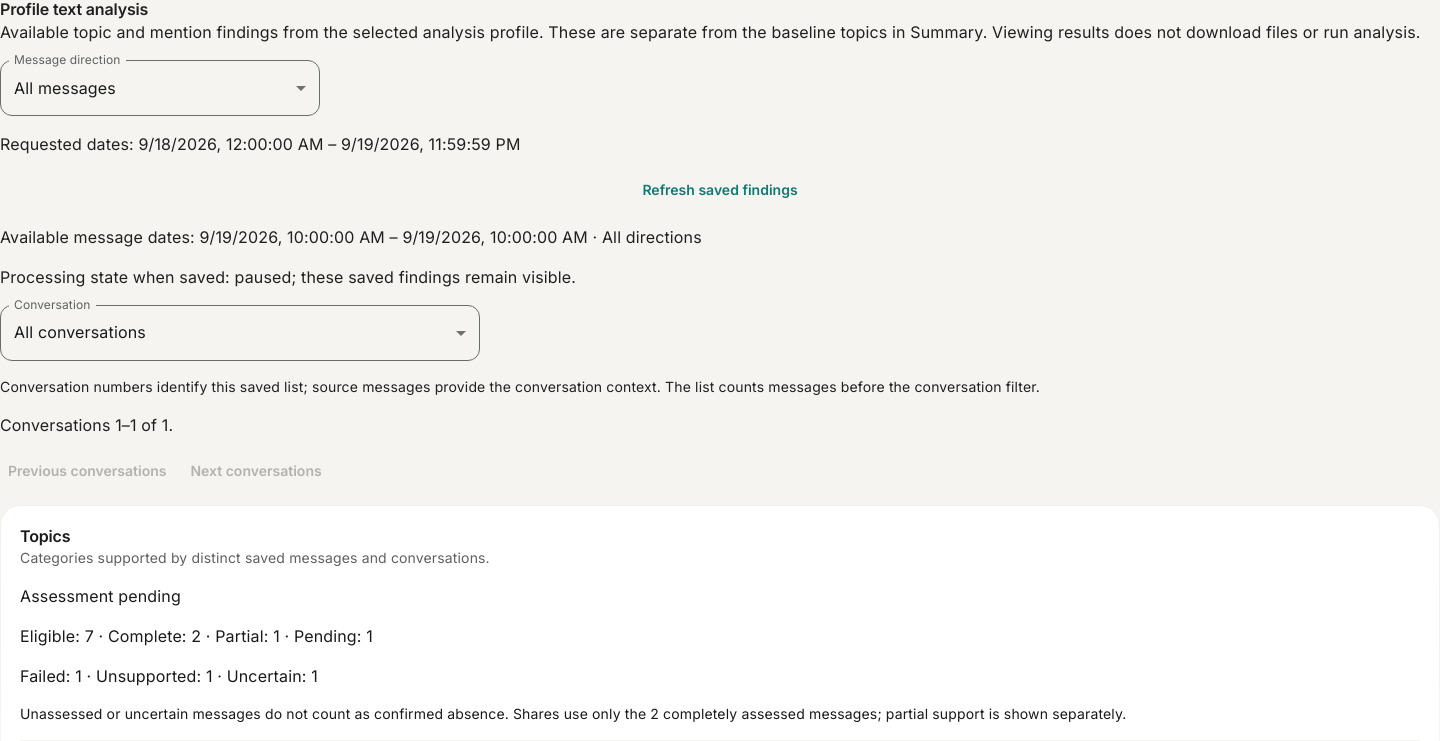
TaskFindings › selects and clears category sources accessibly while returning to all conversations
Press the mouse on the dropdown labelled "conversation" at (80, 332), box [14,322,146,342]
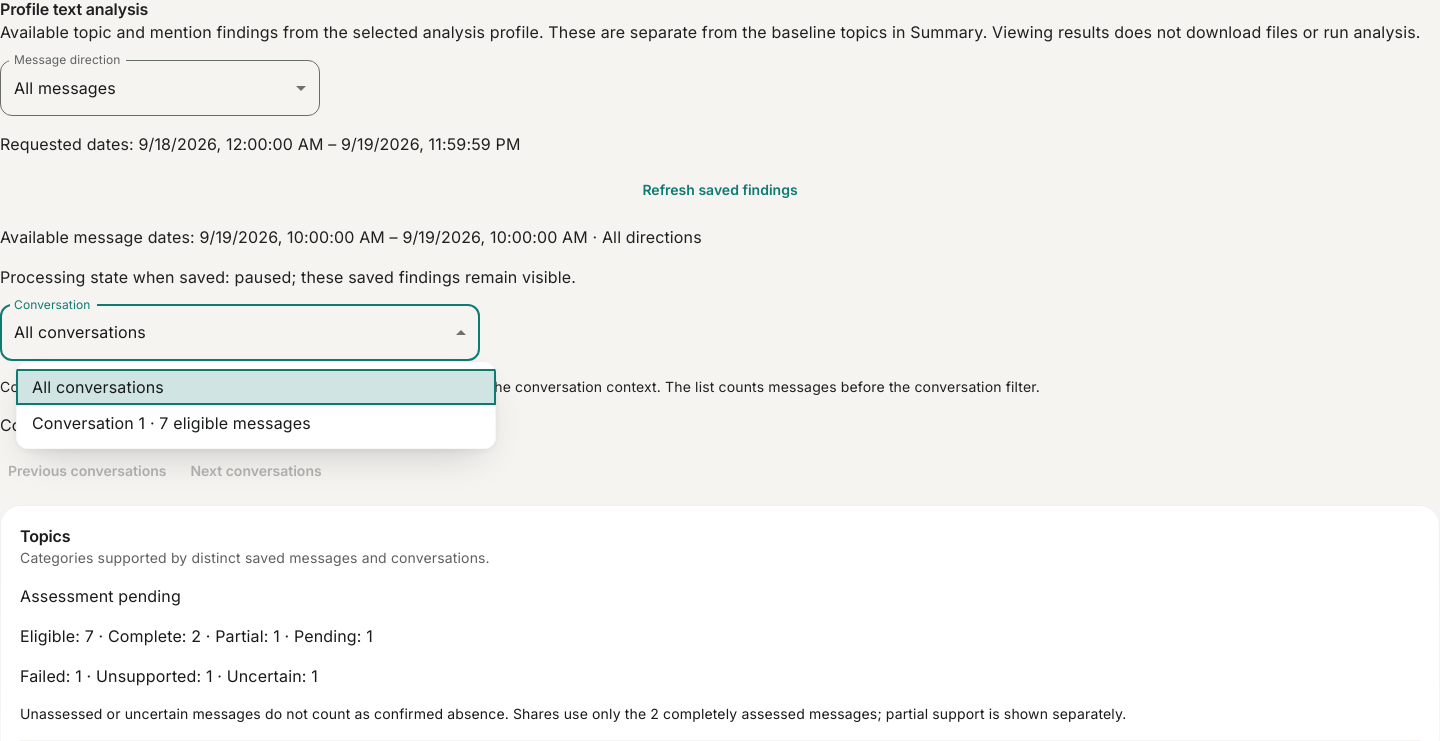
Click the option "Conversation 1 · 7 eligible messages".
click(171, 423)  # box [32,413,311,433]
(page scrolled)
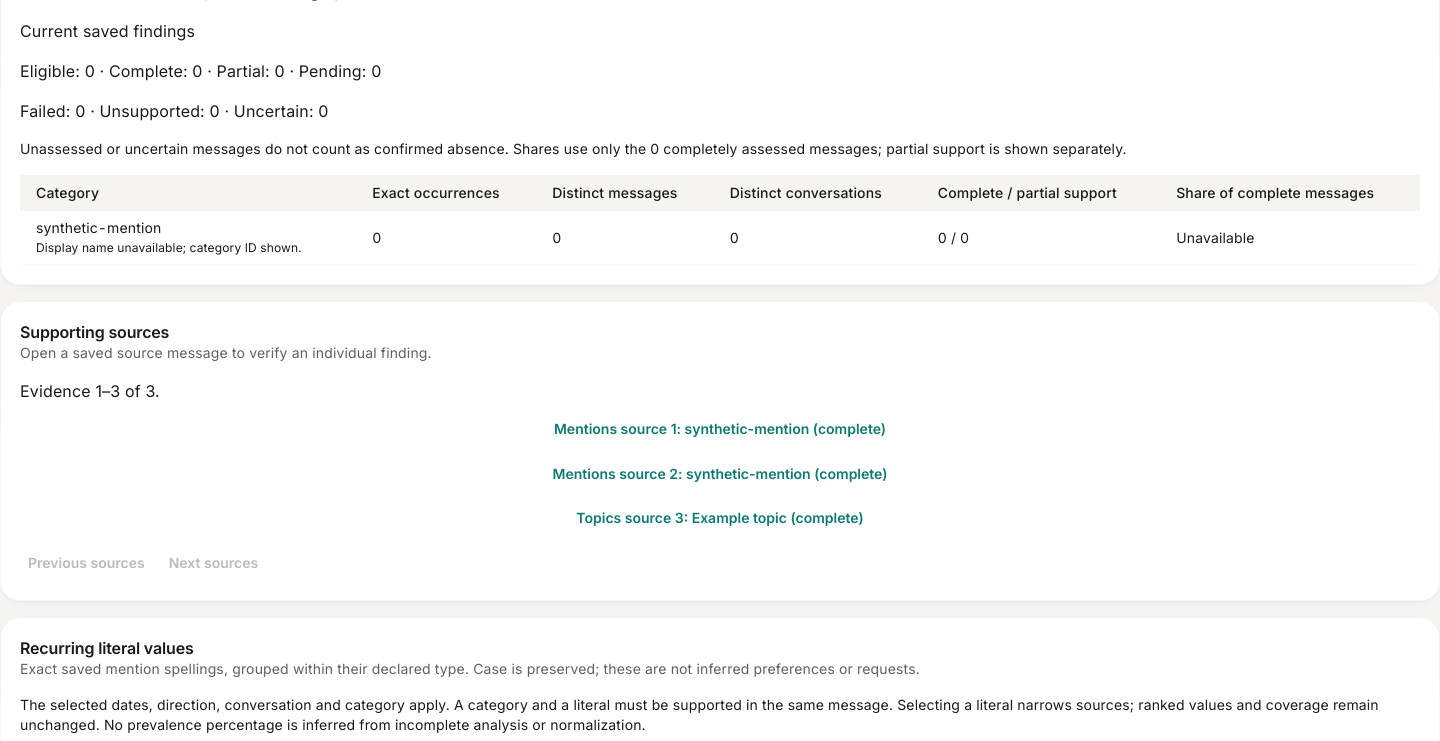
Click the button "Mentions source 1: synthetic-mention (complete)".
click(720, 430)  # box [20,411,1420,448]
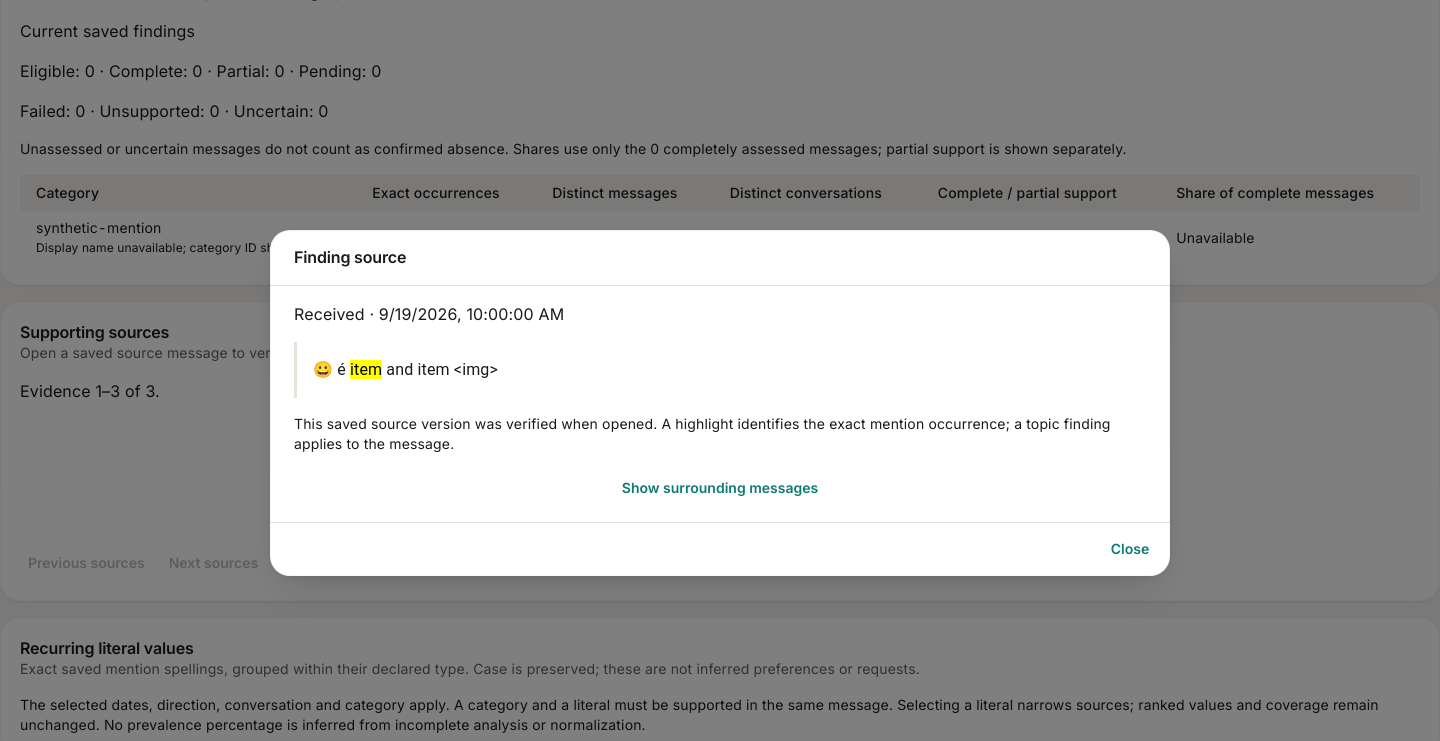
Now the dialog "Finding source" is shown, box [270,230,1170,576]
Click the button "Close".
click(1130, 549)  # box [1098,531,1162,568]
(page scrolled)
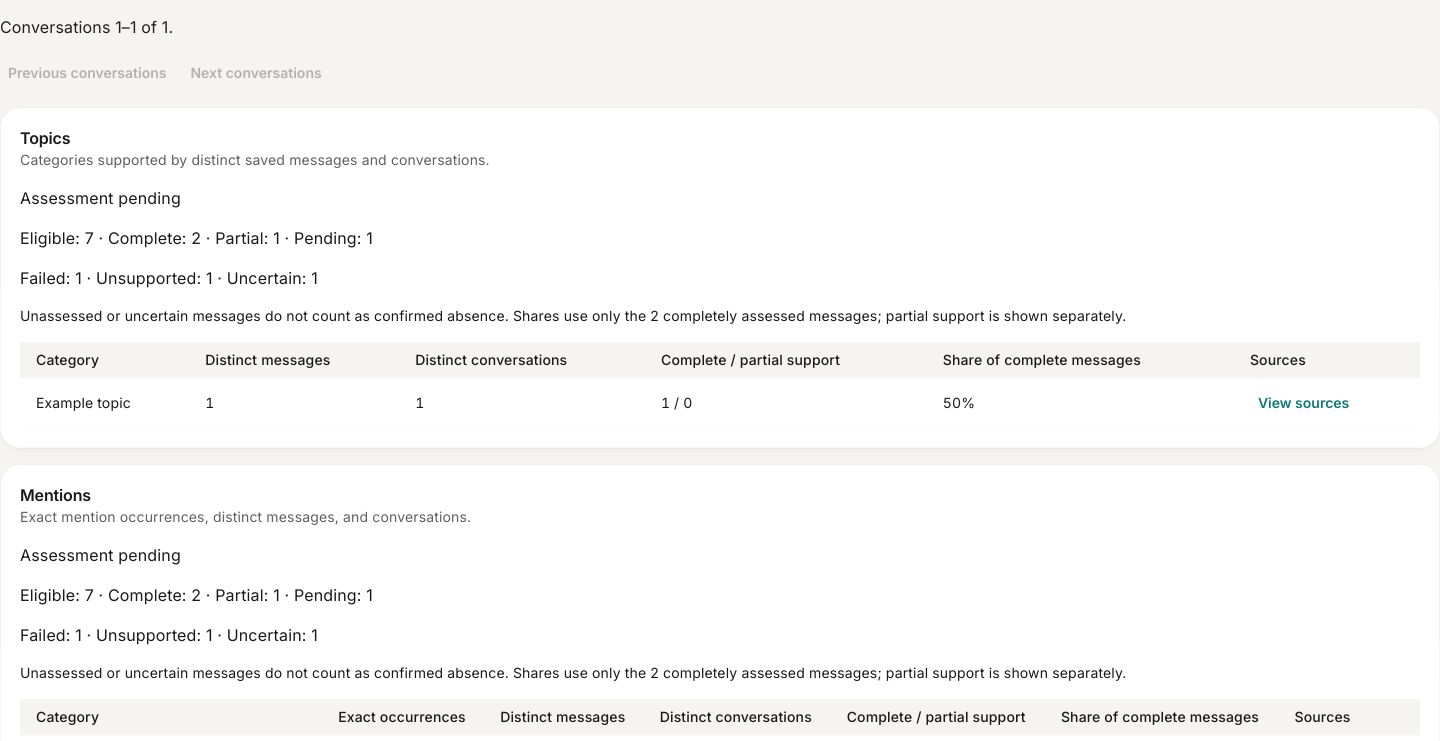
Now the dialog is gone
Click the button with aria-label "View sources for Topics: Example topic".
click(1304, 403)  # box [1250,385,1357,421]
(page scrolled)
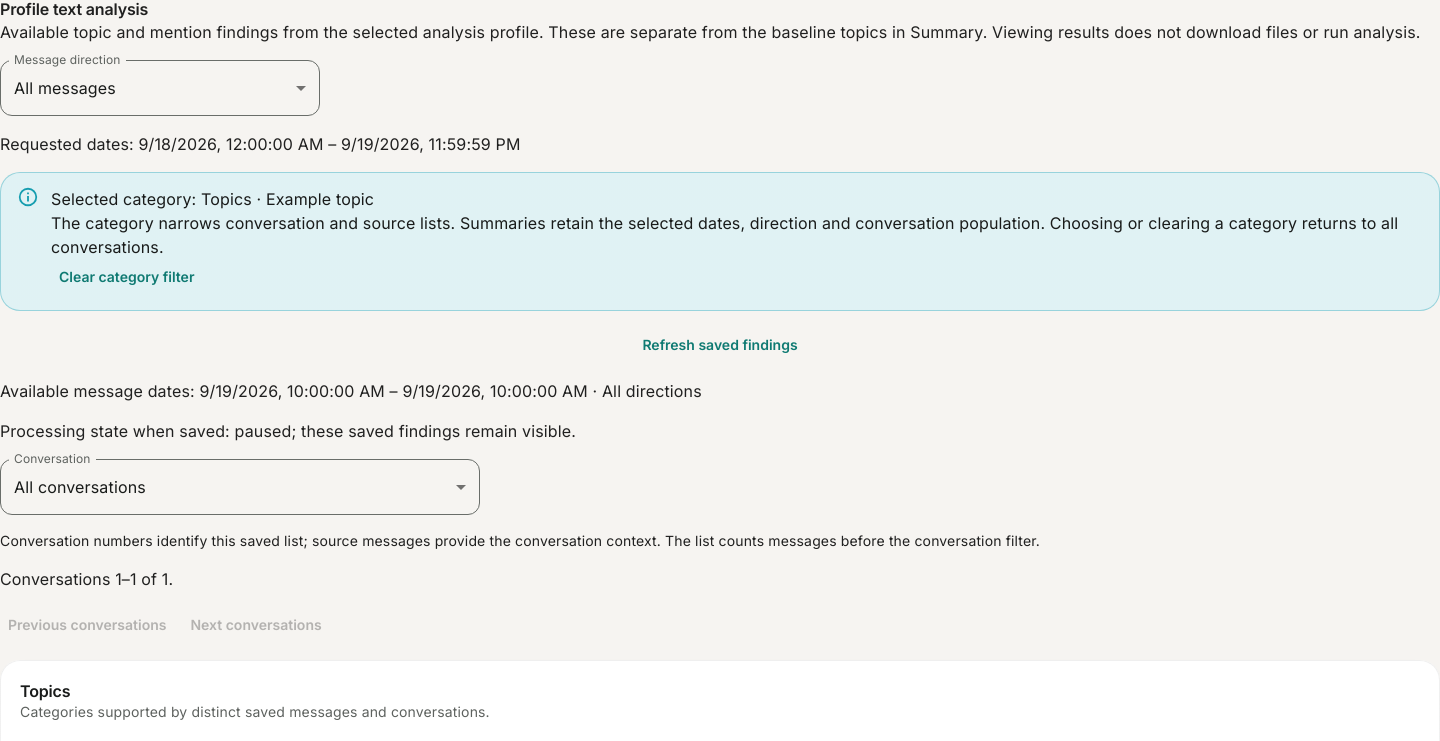
Expected: the button "Mentions source 1:" is not shown
Now the text "Selected category: Topics · Example topic" is shown, box [51,189,374,209]
Now the text "Choosing or clearing a category returns to all conversations" is shown, box [51,213,1398,257]
Click the button "Clear category filter".
click(127, 278)  # box [51,259,202,296]
(page scrolled)
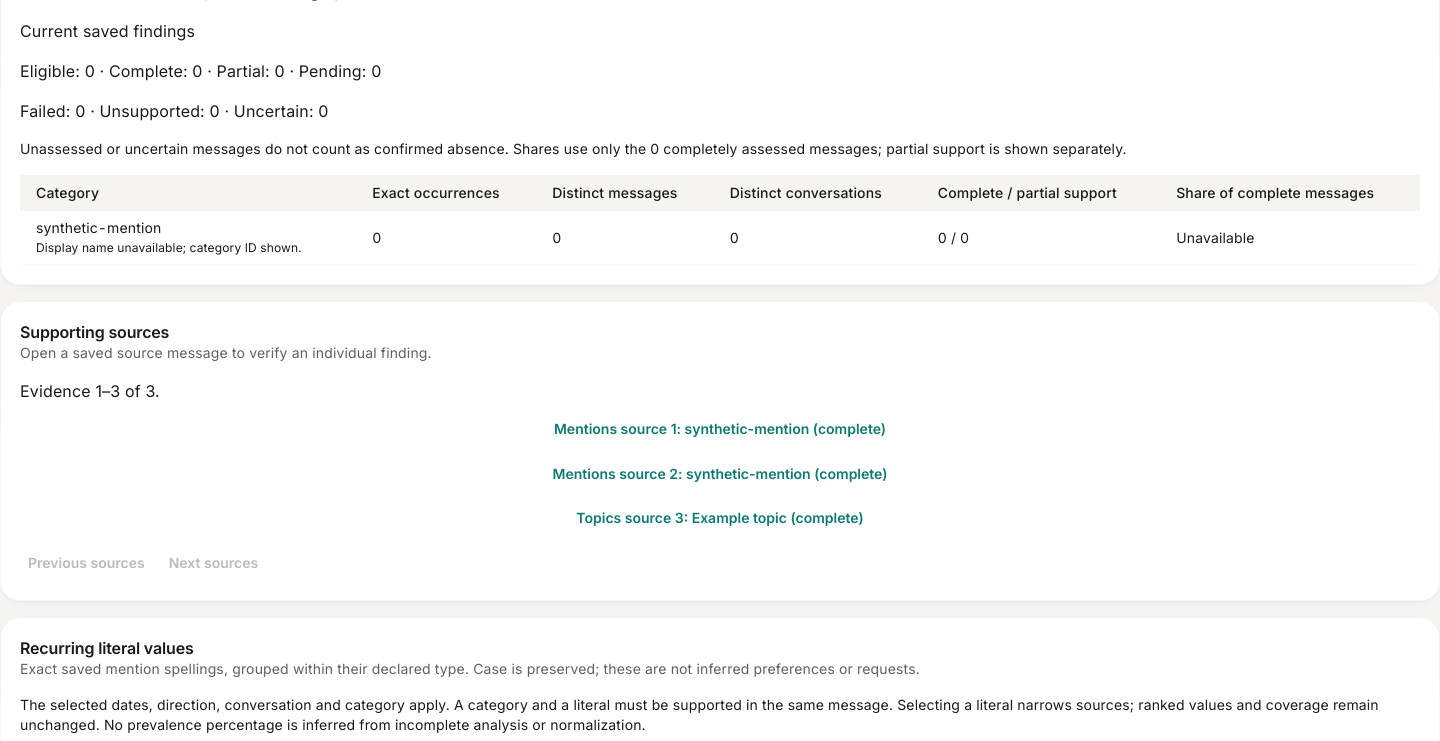
Now the text "Selected category:" is gone
Now the button "Mentions source 2: synthetic-mention (complete)" is shown, box [20,456,1420,492]
